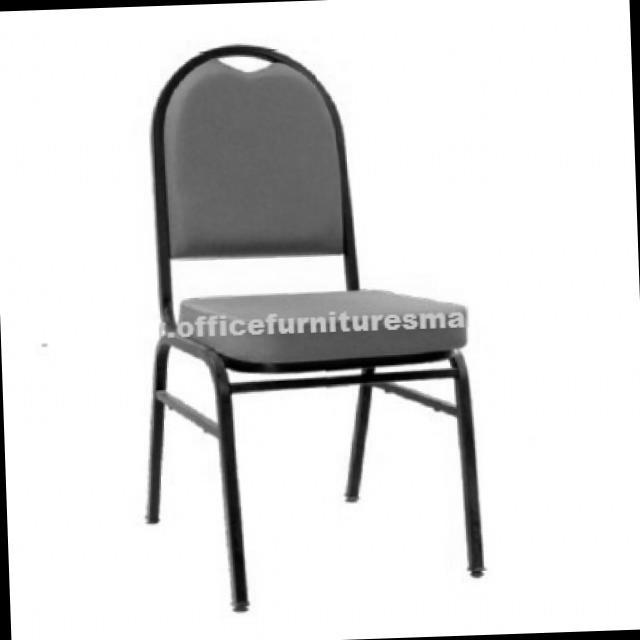chair: (124, 36, 492, 618)
